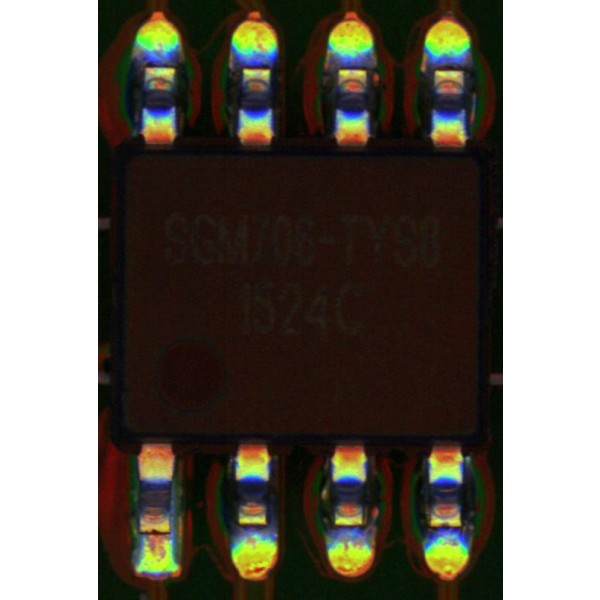Bad_podu: (143, 524, 169, 549)
